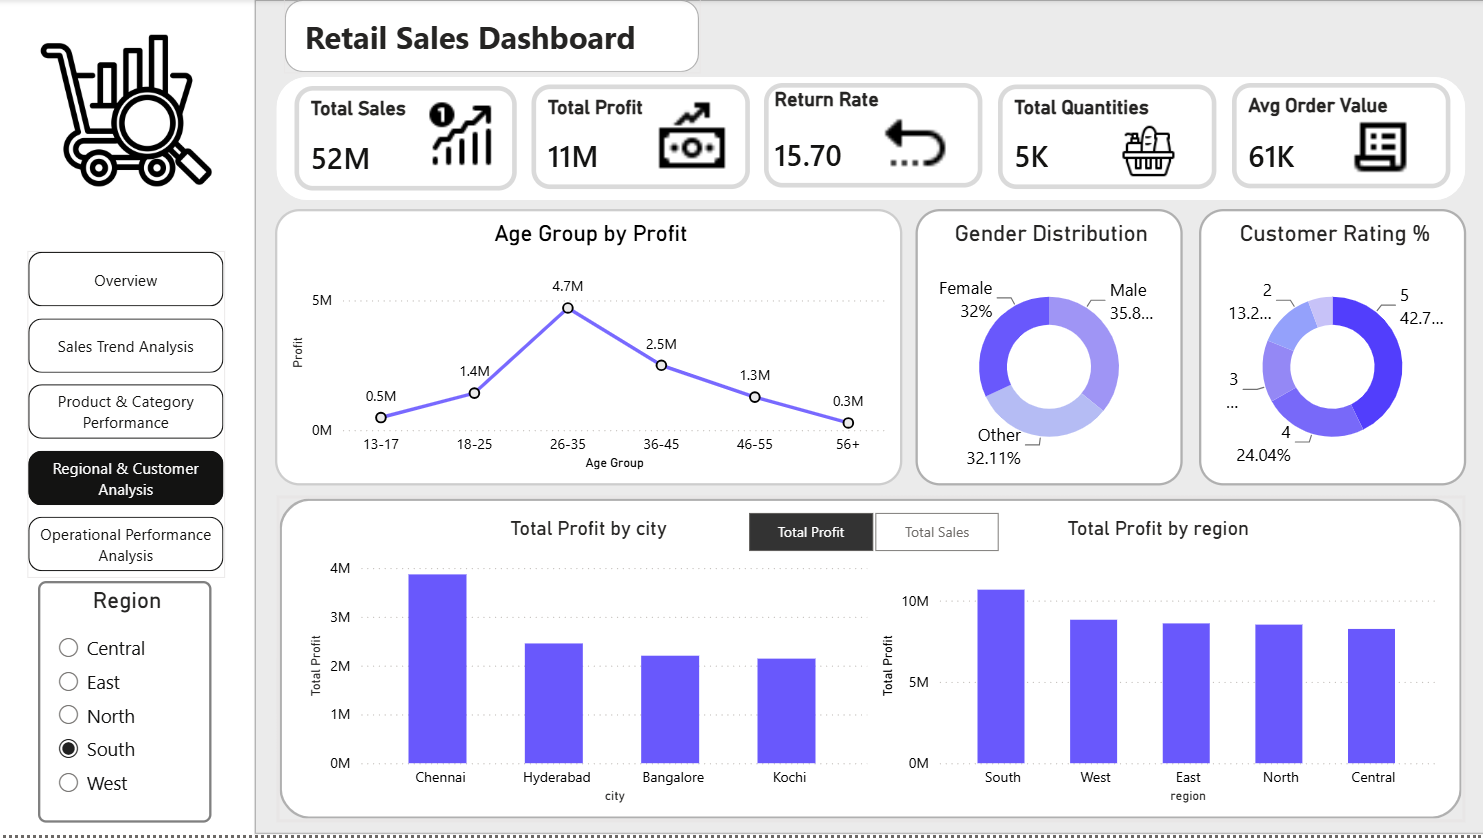

The dashboard page shown, as its layout file describes it:
{"tool":"powerbi","page":{"name":"Regional & Customer Analysis","canvas":[1280,720],"ordinal":3},"visuals":[{"type":"shape","box":[219.2,0,1061.4,720],"z":0},{"type":"shape","box":[245.7,0,358.6,64.3],"z":2000},{"type":"textbox","box":[258.6,8.6,328.6,45.7],"z":3000},{"type":"shape","box":[239.1,66.6,1023.2,105.9],"z":4000},{"type":"cardVisual","title":"Total Quantities","fields":{"Data":["retail_Sales_data_clean.total_quantity"]},"box":[860.1,74.2,188,90],"z":5000},{"type":"cardVisual","title":"Total Sales","fields":{"Data":["retail_Sales_data_clean.total_sales"]},"box":[255,74.3,191,90],"z":6000},{"type":"cardVisual","title":"Total Profit","fields":{"Data":["retail_Sales_data_clean.total_profit"]},"box":[458,73,188,90],"z":7000},{"type":"cardVisual","title":"Return Rate","fields":{"Data":["retail_Sales_data_clean.return_rate"]},"box":[659,72.7,188,90],"z":8000},{"type":"cardVisual","title":"Avg Order Value","fields":{"Data":["retail_Sales_data_clean.avg_order_value"]},"box":[1061.5,72.7,188,90.9],"z":9000},{"type":"image","box":[363.4,83.3,72.7,69.7],"z":10000},{"type":"image","box":[555,83.3,83,69.7],"z":11000},{"type":"image","box":[754.1,96.9,69.7,56],"z":12000},{"type":"image","box":[947,107.5,86,49],"z":13000},{"type":"image","box":[1155.3,99,69,56],"z":14000},{"type":"slicer","title":"Region","fields":{"Values":["retail_Sales_data_clean.region"]},"box":[34,500.8,149.3,207.9],"z":17000},{"type":"shape","box":[239.2,427,1023.6,281.6],"z":18000},{"type":"donutChart","title":"Customer Rating %","fields":{"Category":["retail_Sales_data_clean.customer_satisfaction"],"Y":["Sum(retail_Sales_data_clean.customer_satisfaction)"]},"box":[1033,181,229.8,238],"z":19000},{"type":"donutChart","title":"Gender Distribution","fields":{"Category":["retail_Sales_data_clean.gender"],"Y":["CountNonNull(retail_Sales_data_clean.gender)"]},"box":[788.9,181,229.8,238],"z":20000},{"type":"lineChart","title":"Age Group by Profit","fields":{"Category":["retail_Sales_data_clean.Age Group"],"Y":["retail_Sales_data_clean.total_profit"]},"box":[238,181,539.7,238],"z":21000},{"type":"clusteredColumnChart","fields":{"Category":["retail_Sales_data_clean.city"],"Y":["retail_Sales_data_clean.total_profit"]},"box":[262,445.2,490.6,251.4],"z":28001},{"type":"clusteredColumnChart","fields":{"Category":["retail_Sales_data_clean.region"],"Y":["retail_Sales_data_clean.total_profit"]},"box":[754.1,445.2,487.6,251.4],"z":29501},{"type":"slicer","fields":{"Values":["sales_metrics.sales_metrics"]},"box":[619.3,434.6,265,46.9],"z":32001},{"type":"pageNavigator","box":[24.6,217.3,170.1,281.6],"z":32002},{"type":"image","box":[24.6,18.9,170.1,153.1],"z":32003}]}

Visuals, with their boxes in screenshot pixels (x1, y1, x2, y2), scaled from the page's 1280x720 canvas onto the 1483x838 screenshot:
shape: (left=254, top=0, right=1482, bottom=837)
shape: (left=285, top=0, right=700, bottom=75)
textbox: (left=300, top=10, right=680, bottom=63)
shape: (left=277, top=78, right=1462, bottom=201)
"Total Quantities" cardVisual: (left=997, top=86, right=1214, bottom=191)
"Total Sales" cardVisual: (left=295, top=86, right=517, bottom=191)
"Total Profit" cardVisual: (left=531, top=85, right=748, bottom=190)
"Return Rate" cardVisual: (left=764, top=85, right=981, bottom=189)
"Avg Order Value" cardVisual: (left=1230, top=85, right=1448, bottom=190)
image: (left=421, top=97, right=505, bottom=178)
image: (left=643, top=97, right=739, bottom=178)
image: (left=874, top=113, right=954, bottom=178)
image: (left=1097, top=125, right=1197, bottom=182)
image: (left=1339, top=115, right=1418, bottom=180)
"Region" slicer: (left=39, top=583, right=212, bottom=825)
shape: (left=277, top=497, right=1463, bottom=825)
"Customer Rating %" donutChart: (left=1197, top=211, right=1463, bottom=488)
"Gender Distribution" donutChart: (left=914, top=211, right=1180, bottom=488)
"Age Group by Profit" lineChart: (left=276, top=211, right=901, bottom=488)
clusteredColumnChart - retail_Sales_data_clean.city x retail_Sales_data_clean.total_profit: (left=304, top=518, right=872, bottom=811)
clusteredColumnChart - retail_Sales_data_clean.region x retail_Sales_data_clean.total_profit: (left=874, top=518, right=1439, bottom=811)
slicer - sales_metrics.sales_metrics: (left=718, top=506, right=1025, bottom=560)
pageNavigator: (left=29, top=253, right=226, bottom=581)
image: (left=29, top=22, right=226, bottom=200)
